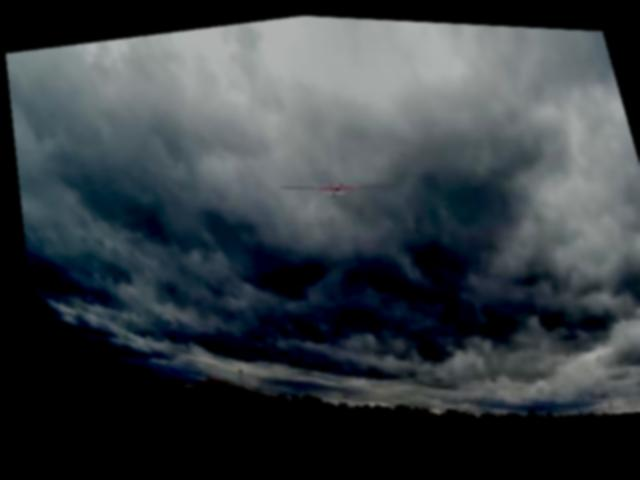uav: (262, 149, 406, 222)
